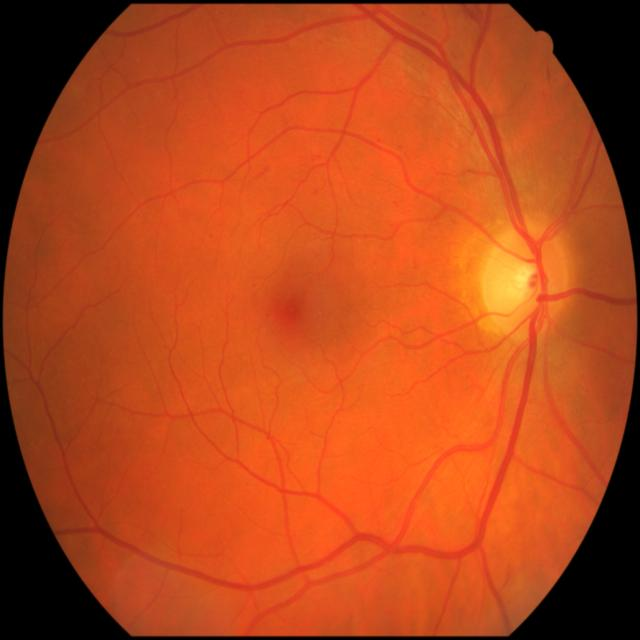OC: (513, 263, 540, 294)
OD: (480, 225, 571, 336)
